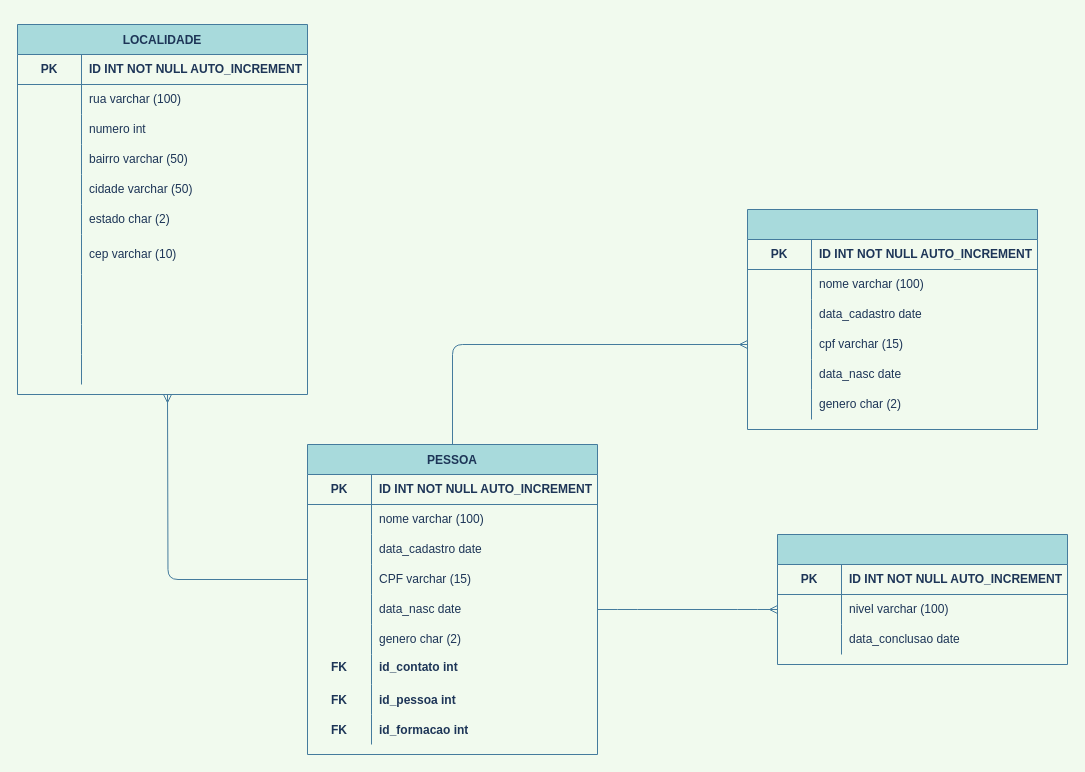
Some shapes in this 1085 by 772 pixel diagram are drawn without their labels. The box of each missing label's shape, as (x1, y1, x2, y2) in pixels:
CONTATO: (746, 208, 1038, 430)
FORMACAO: (776, 534, 1068, 664)
